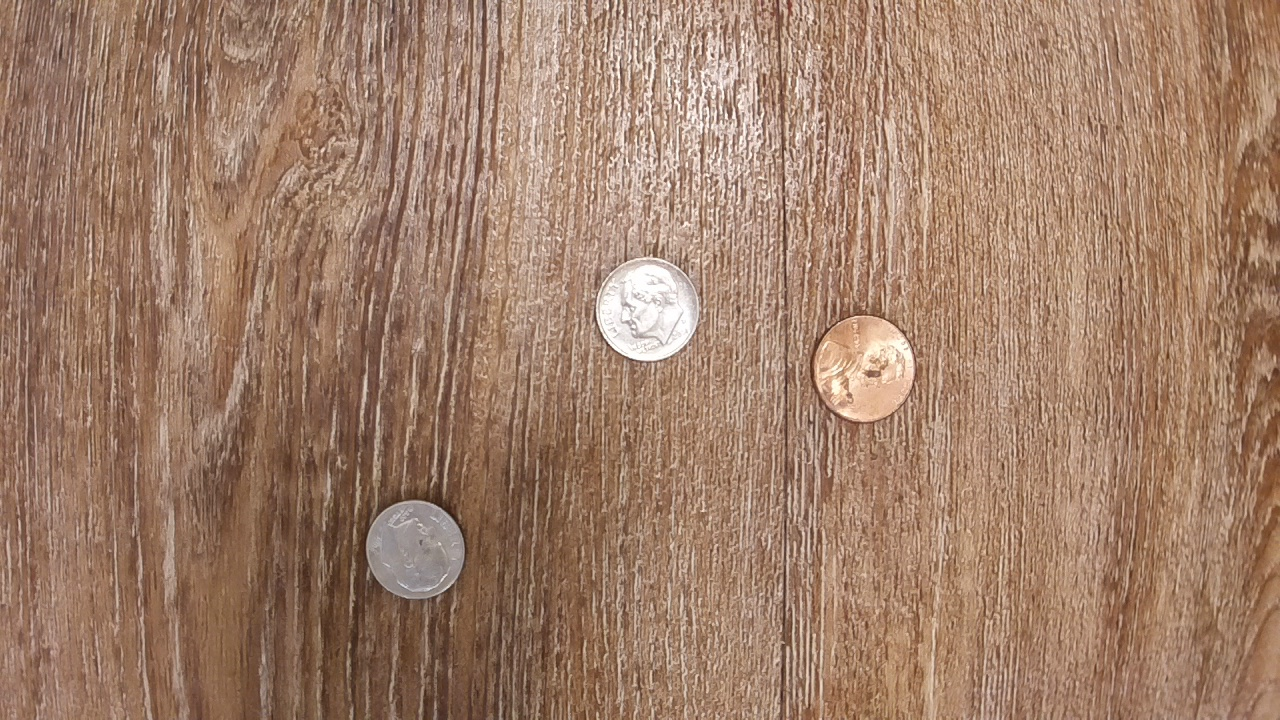dime: (591, 255, 703, 367), (364, 495, 468, 603)
penny: (808, 307, 918, 427)
